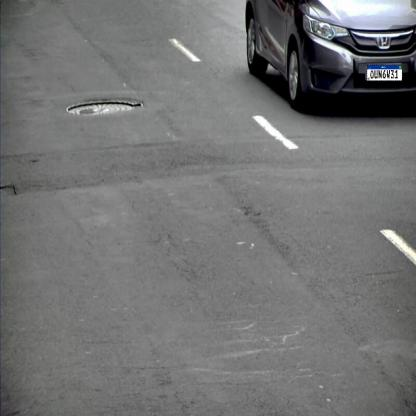PlacaM: (366, 65, 402, 81)
